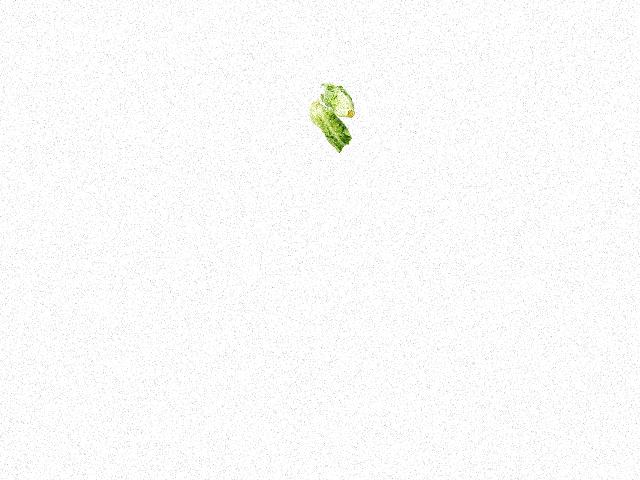lettuce: (319, 81, 360, 120)
